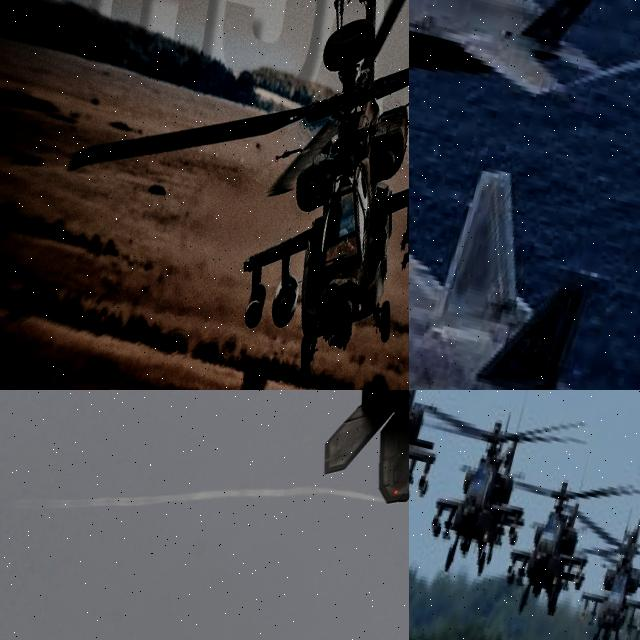Apache: (29, 0, 409, 390), (409, 390, 582, 597), (490, 452, 632, 636), (409, 390, 550, 561), (553, 482, 640, 640)
F22: (409, 95, 640, 390), (409, 0, 635, 111)
